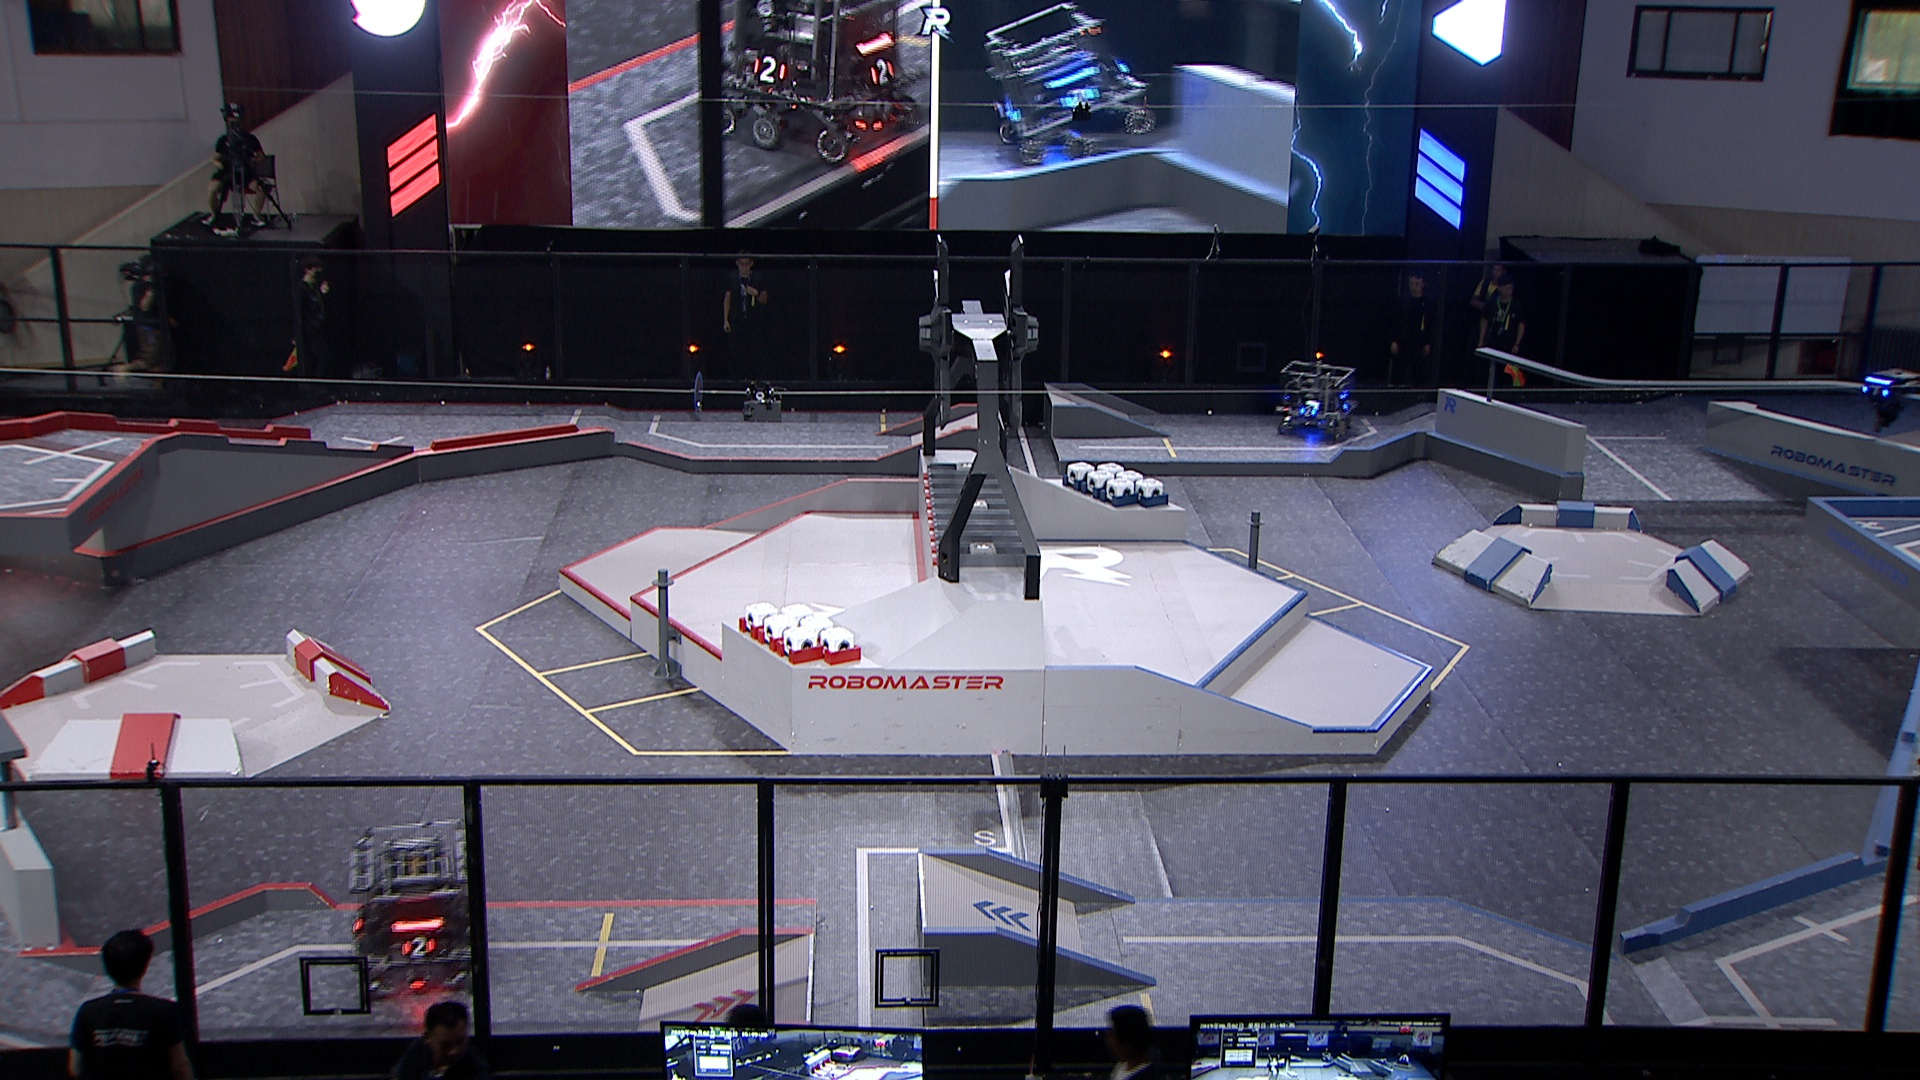armor: (401, 935, 438, 959), (1859, 384, 1890, 400), (1298, 405, 1319, 419)
car: (344, 818, 489, 993), (1269, 360, 1361, 442)
ignore: (982, 1, 1154, 166)
watcher: (1855, 368, 1920, 436)
